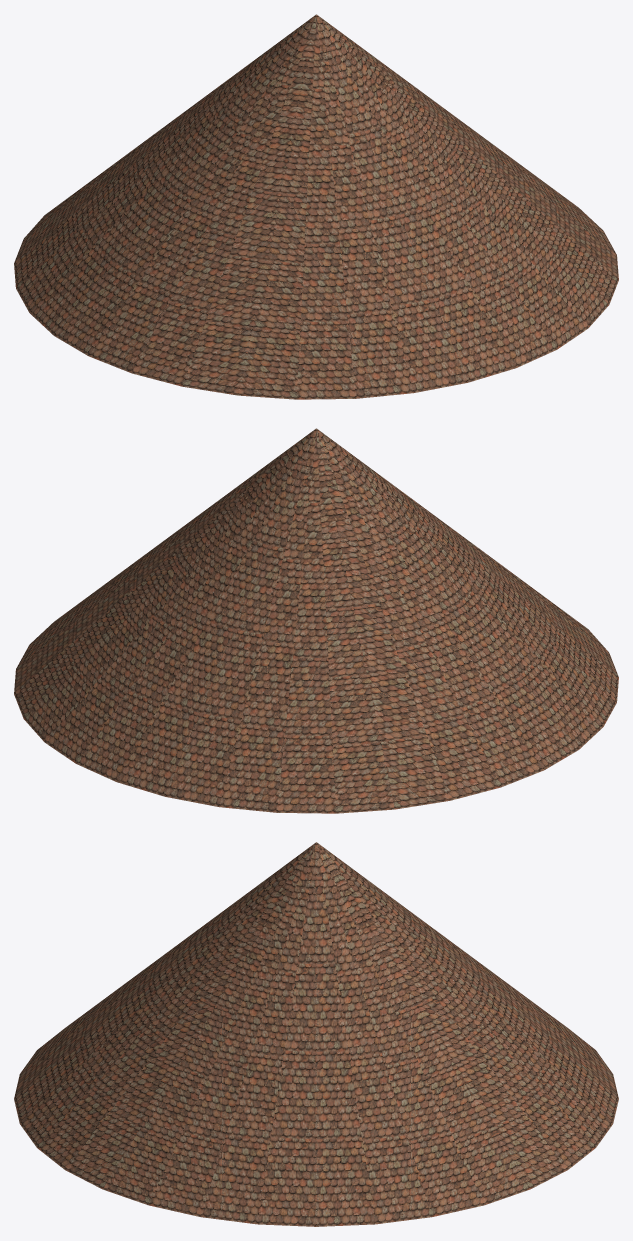
Rendered from Tower_Roof_6m.glb.
The picture shows the model from 3 angles, top to bottom: view 1: azimuth 30°, elevation 25°; view 2: azimuth 150°, elevation 25°; view 3: azimuth 270°, elevation 25°; orthographic projection.
Visible parts, largest first — view 1: conical_roof; view 2: conical_roof; view 3: conical_roof.
Boxes of the visible parts, x1,y1,x2,y2 form: conical_roof: (14,14,618,399); conical_roof: (14,428,618,813); conical_roof: (14,842,618,1226).
Bounding box in the file's own units: 6.4 × 3 × 6.4.
1 material, 1 textured.
